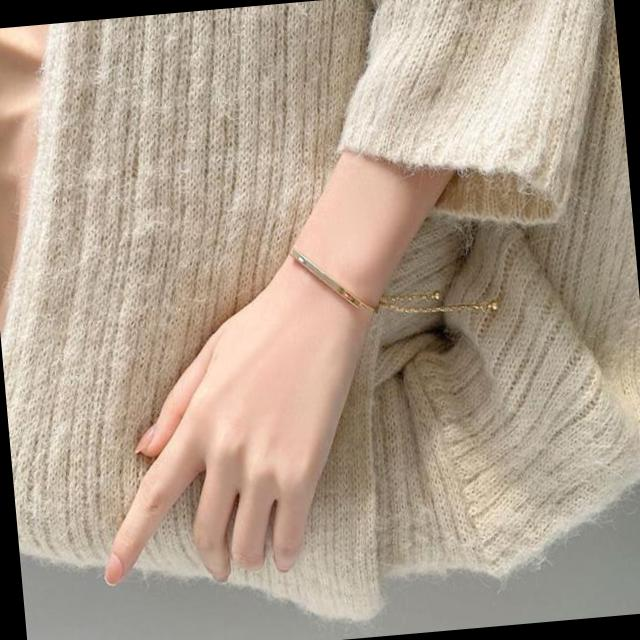Nail: (134, 417, 157, 450), (104, 551, 127, 583)
